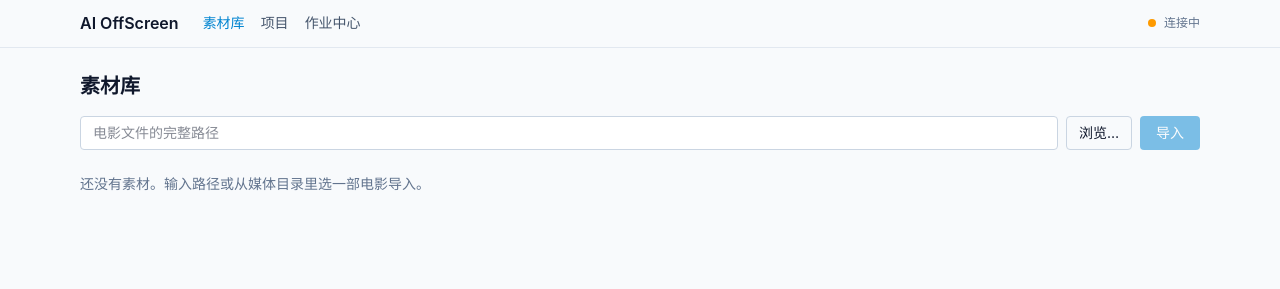
Test: library: importing › imports by path, then clears the field and refreshes the list
Expected: the button "导入" is disabled, [1140,116,1200,150]
Type "  /movies/Sintel.mkv " into the field named "电影文件路径" at (569, 133), box [80,116,1058,150]
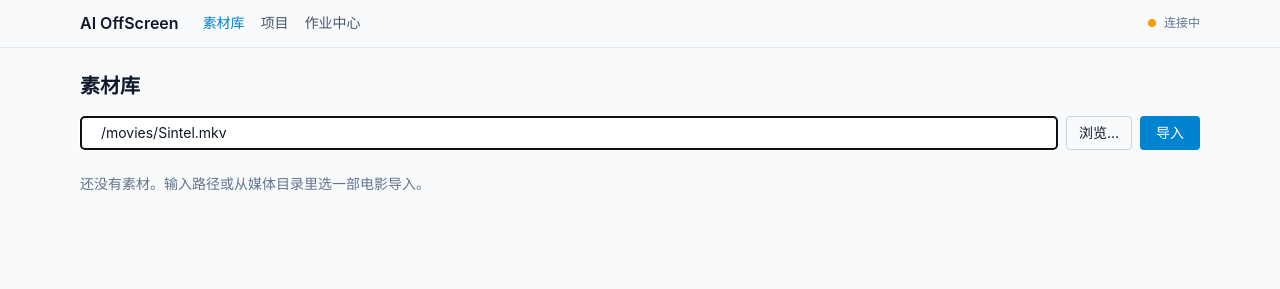
Click the button "导入" at (1170, 133), box [1140,116,1200,150]
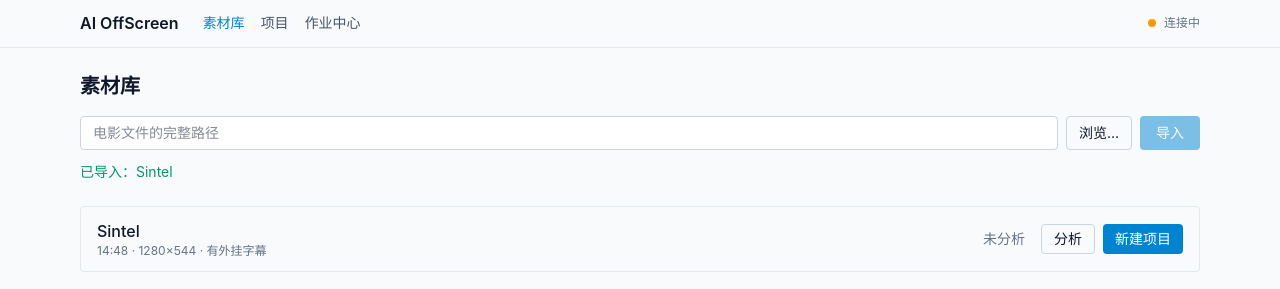
Now the text "已导入：Sintel" is shown, box [80,163,173,180]
Now the field named "电影文件路径" is empty, box [80,116,1058,150]
Now the list item "Sintel" is shown, box [97,221,1183,258]
